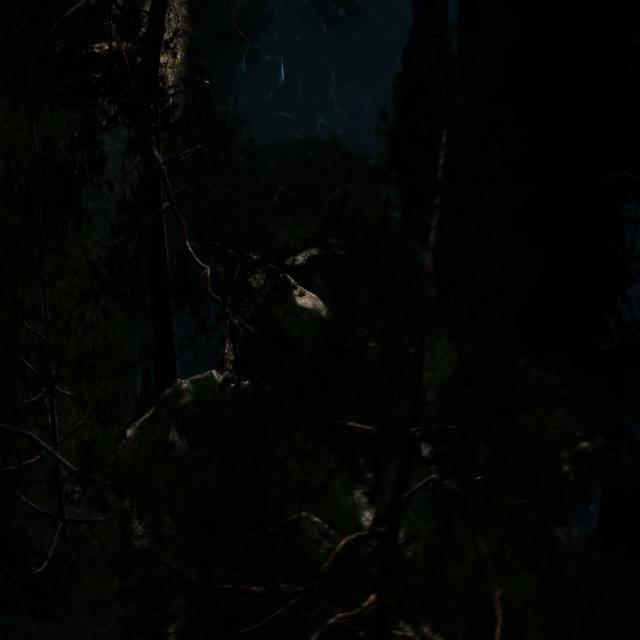Human: (189, 56, 222, 183)
